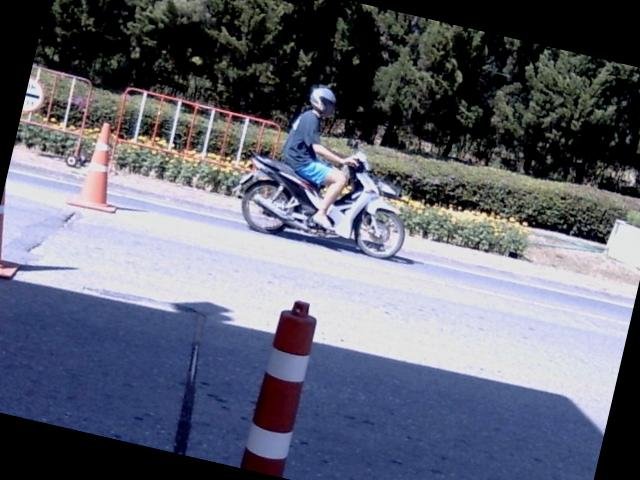helmet: (308, 84, 335, 115)
motor: (237, 152, 403, 257)
person: (282, 87, 355, 229)
